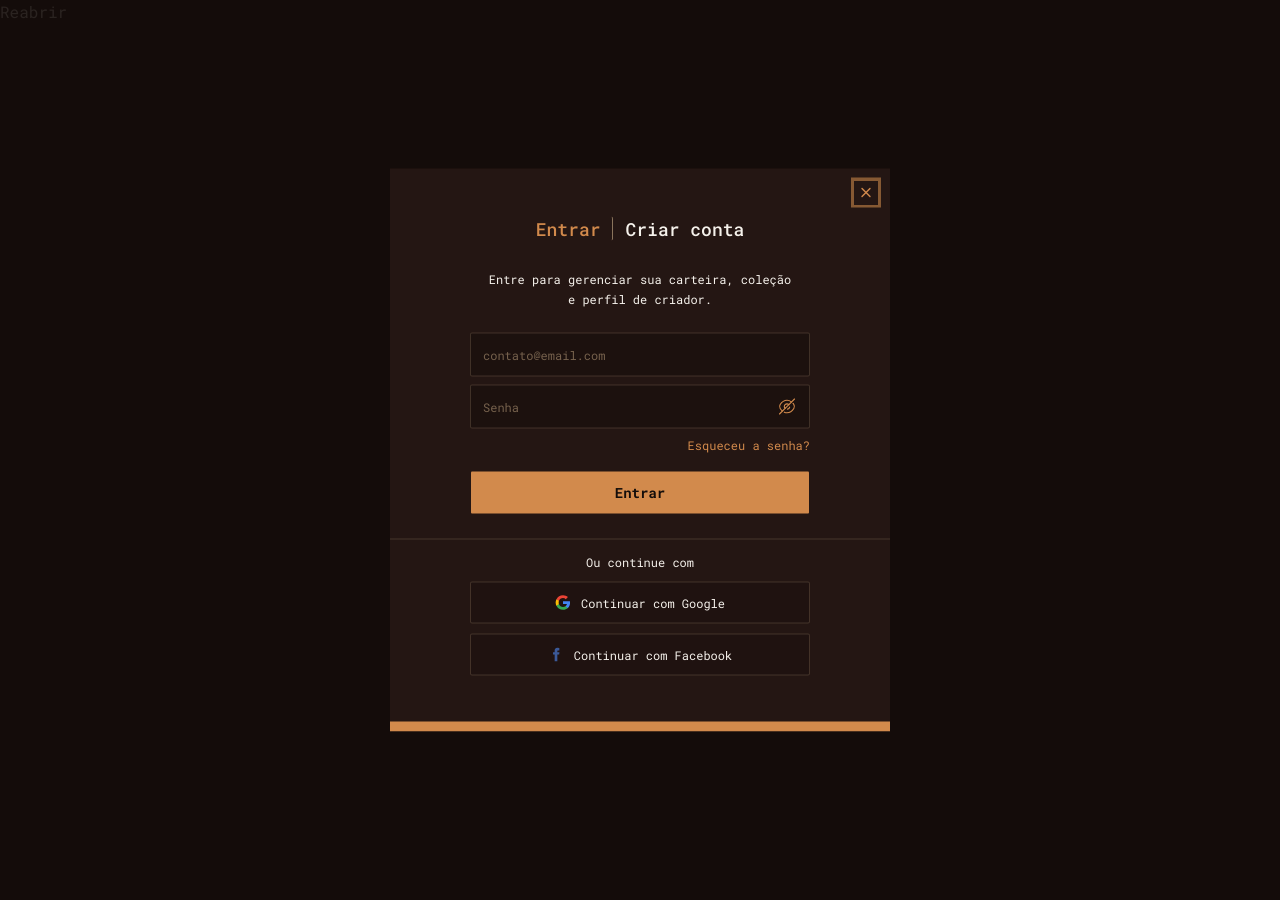
Test: AuthModal › fecha o modal ao entrar com sucesso
In the field labelled "contato@email.com": (640, 354) [470,332,810,376], type "ana@email.com"
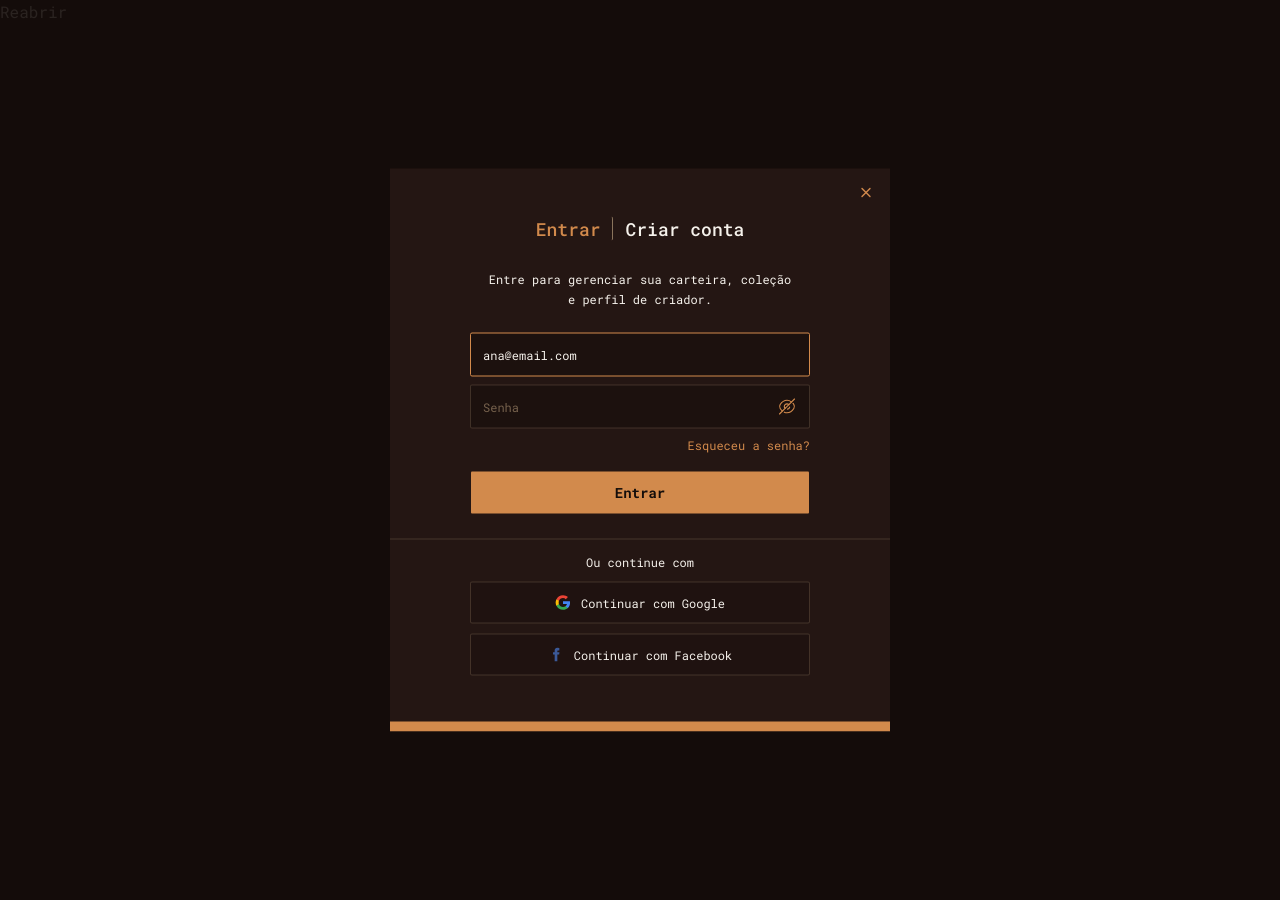
In the password field labelled "Senha": (640, 406) [470,384,810,428], type "segredo123"
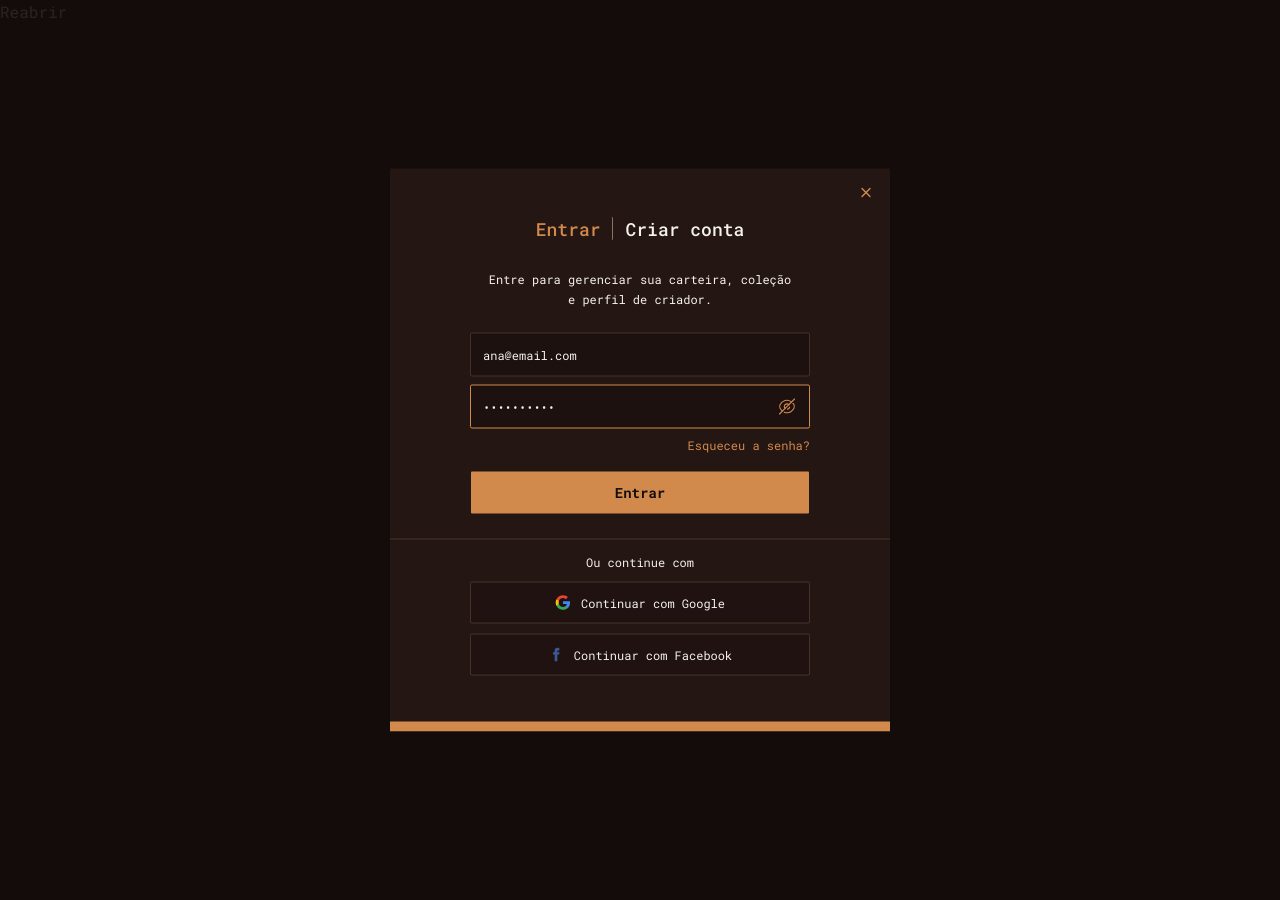
Click the button "Entrar": (640, 492) [470,470,810,514]
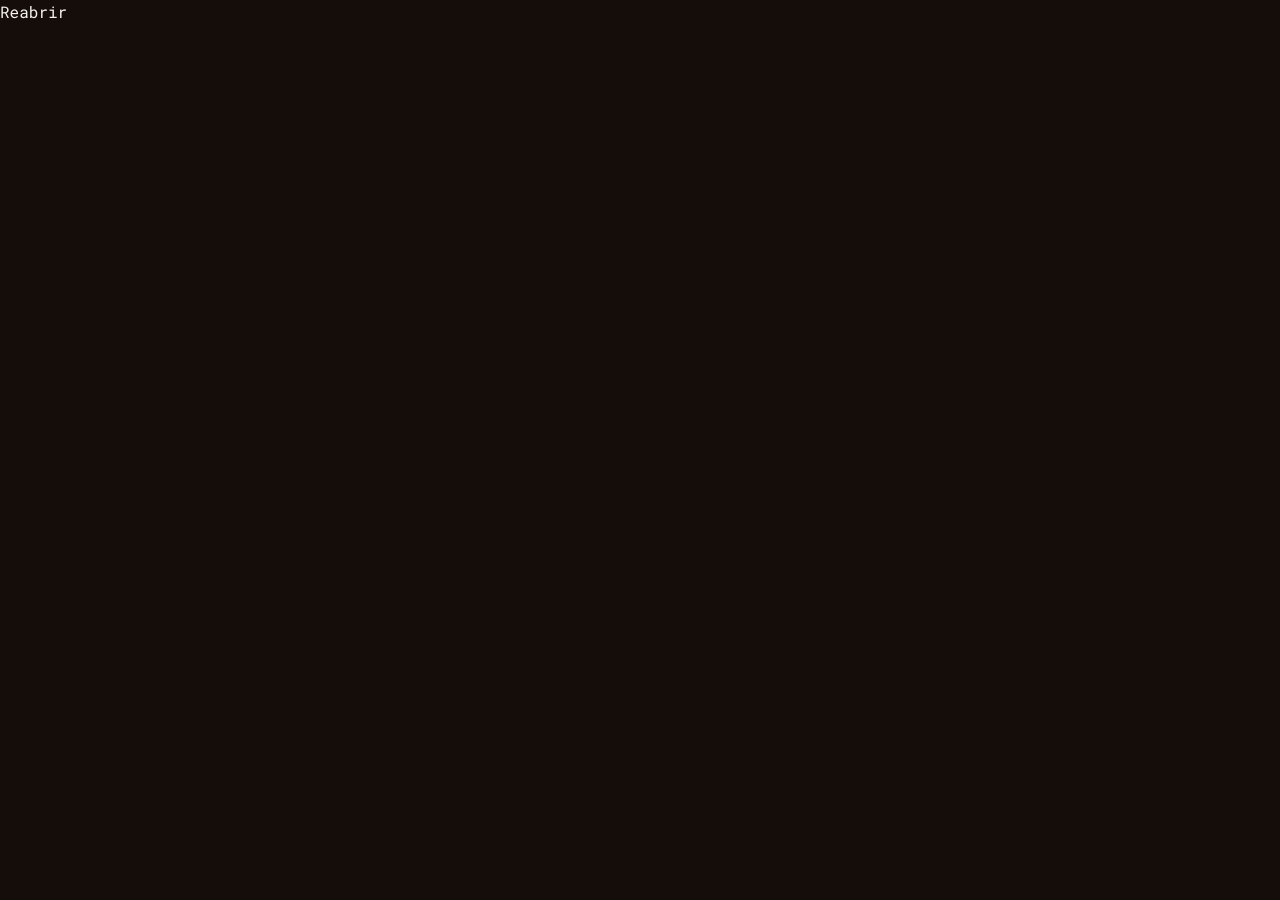
Expected: the dialog is gone
